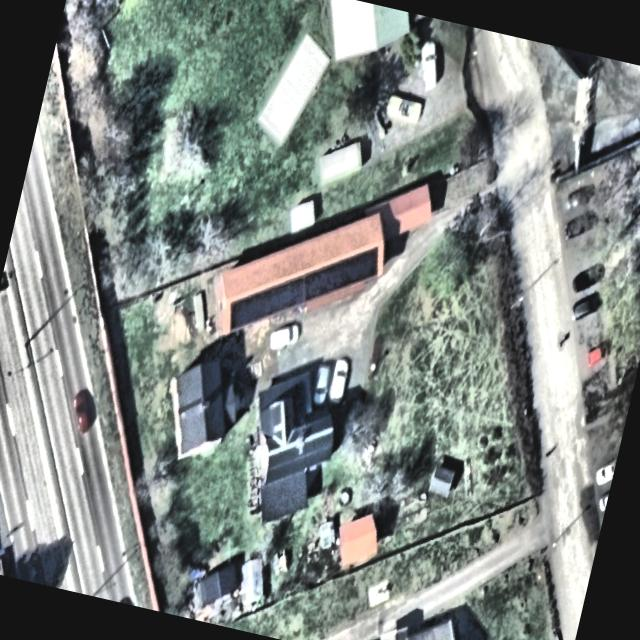roof_pv: (222, 280, 270, 341), (339, 236, 385, 298), (262, 266, 310, 324), (302, 252, 346, 313)
